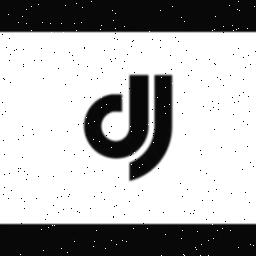j: (80, 58, 150, 158)
